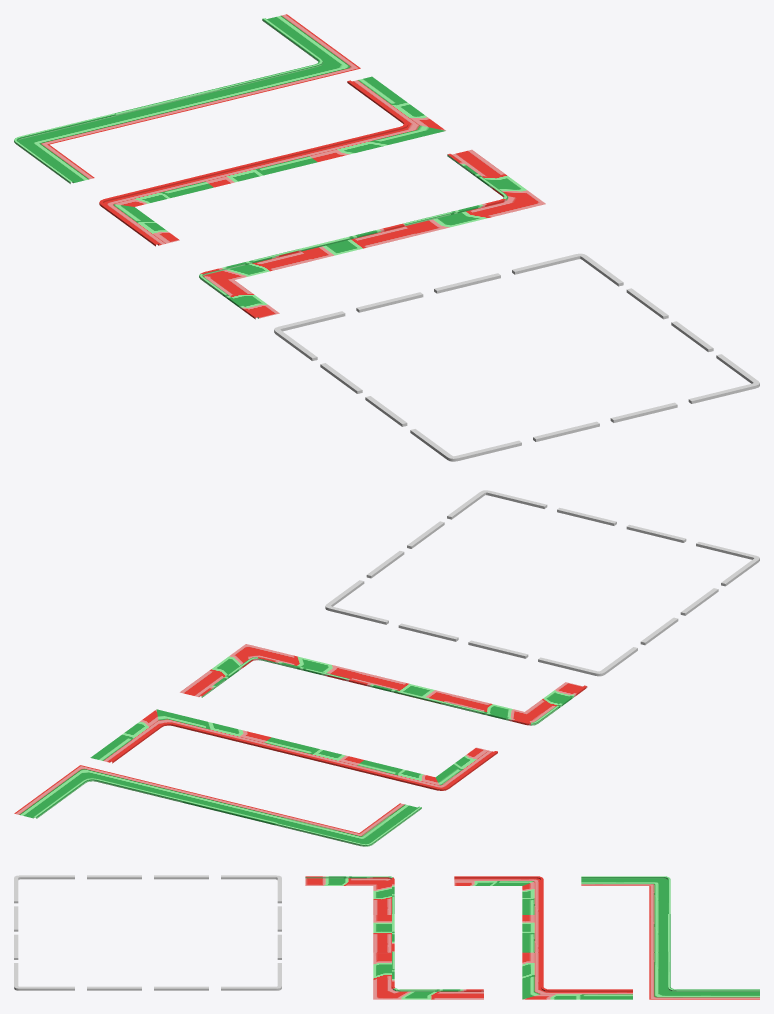
File: boundary.FBX
The picture shows the model from 3 angles, top to bottom: view 1: azimuth 30°, elevation 25°; view 2: azimuth 150°, elevation 25°; view 3: azimuth 270°, elevation 25°; orthographic projection. The views are drawn at different scales.
Parts seen in each view (by area): view 1: boundary10, boundary09, boundary03, boundary06, boundary04, boundary07, boundary01, boundary05, boundary08, boundary02; view 2: boundary10, boundary03, boundary09, boundary06, boundary01, boundary07, boundary04, boundary05, boundary08, boundary02; view 3: boundary10, boundary03, boundary06, boundary09, boundary01, boundary04, boundary07, boundary02, boundary05, boundary08.
Part boxes in pixels (x1,y1,x2,y2): boundary10: (274,253,759,461); boundary09: (403,149,545,235); boundary03: (219,14,360,99); boundary06: (304,76,445,161); boundary04: (99,175,213,246); boundary07: (199,249,313,319); boundary01: (14,113,128,183); boundary05: (200,150,317,187); boundary08: (300,223,417,260); boundary02: (115,88,232,124); boundary10: (325,490,759,676); boundary03: (14,765,194,818); boundary09: (180,644,360,697); boundary06: (90,709,270,763); boundary01: (275,803,421,846); boundary07: (441,682,587,725); boundary04: (351,747,497,790); boundary05: (258,737,363,769); boundary08: (348,672,453,704); boundary02: (182,793,287,825); boundary10: (14,875,281,990); boundary03: (649,951,759,999); boundary06: (522,951,632,999); boundary09: (373,951,483,999); boundary01: (581,876,670,914); boundary04: (454,876,543,914); boundary07: (305,876,394,914); boundary02: (649,914,670,952); boundary05: (522,914,543,952); boundary08: (373,914,394,952).
Size of the model in its own units: 972 by 7.89 by 2505.
